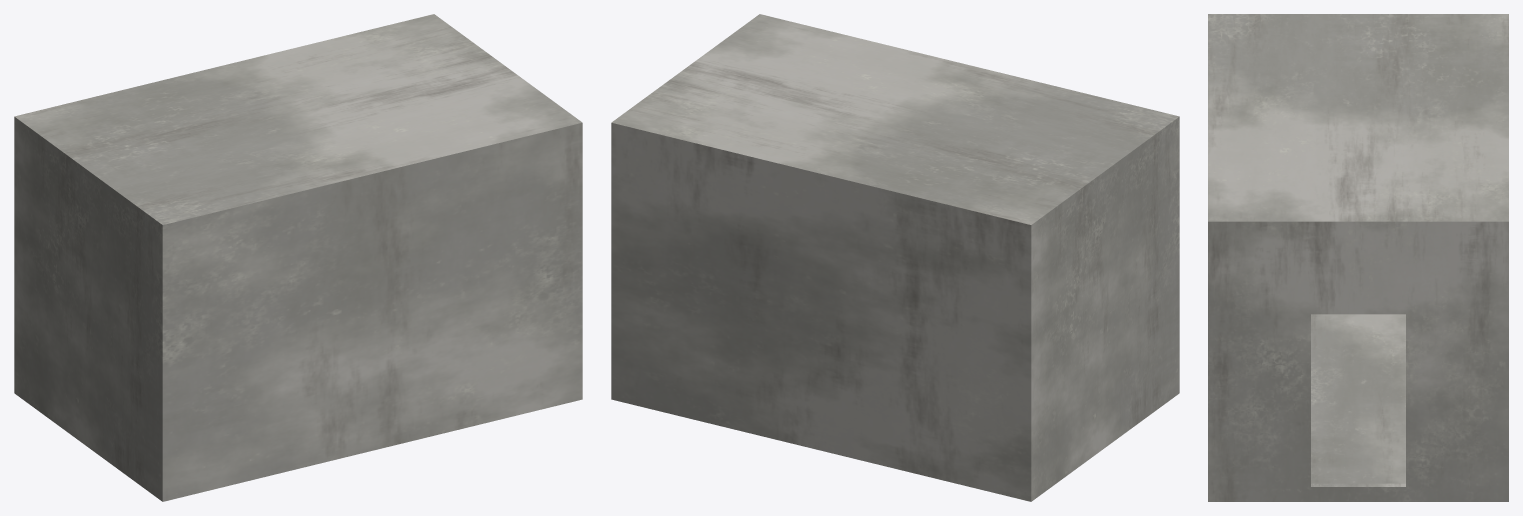
The model's file is building_apartment_001.glb.
3 renders of one model, left to right at view 1: azimuth 30°, elevation 25°; view 2: azimuth 150°, elevation 25°; view 3: azimuth 270°, elevation 25°, orthographic.
Parts seen in each view (by area): view 1: exterieur; view 2: exterieur; view 3: exterieur.
Part boxes in pixels (x1,y1,x2,y2): exterieur: (14, 14, 582, 501); exterieur: (611, 14, 1179, 501); exterieur: (1208, 14, 1508, 501).
Size of the model in its own units: 5.16 by 3.25 by 3.16.
1 material, 1 textured.
